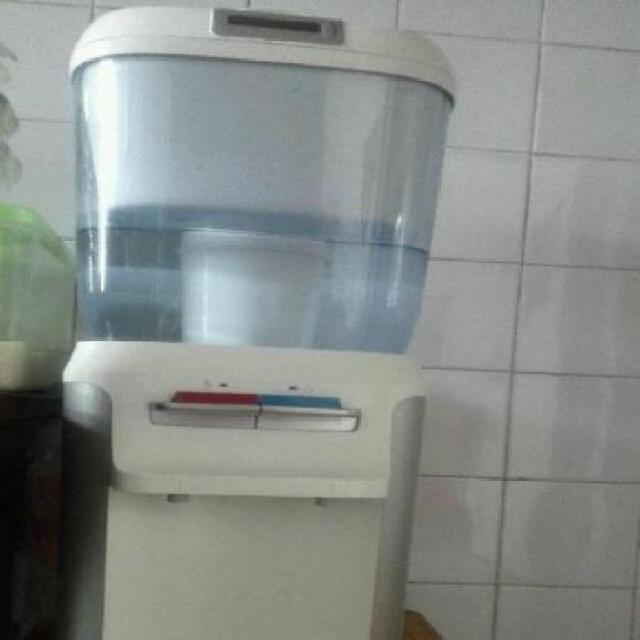cooler: (72, 6, 458, 639)
